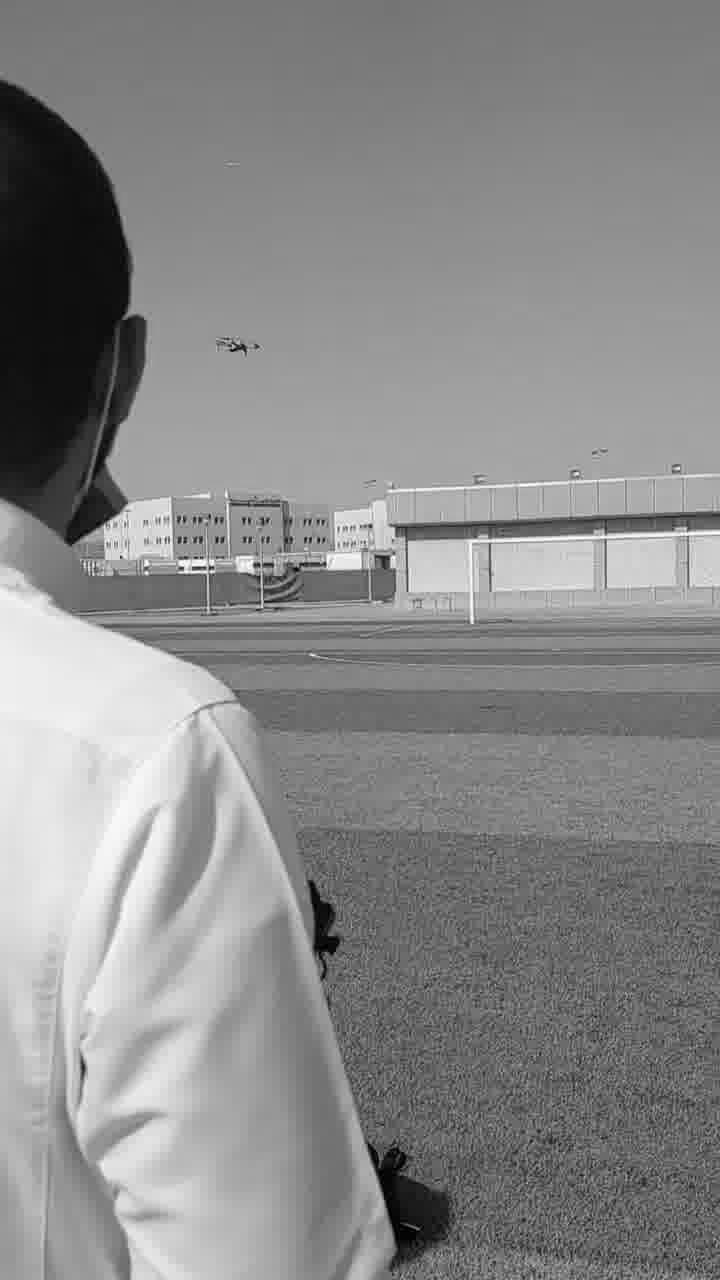drone: (205, 331, 270, 361)
